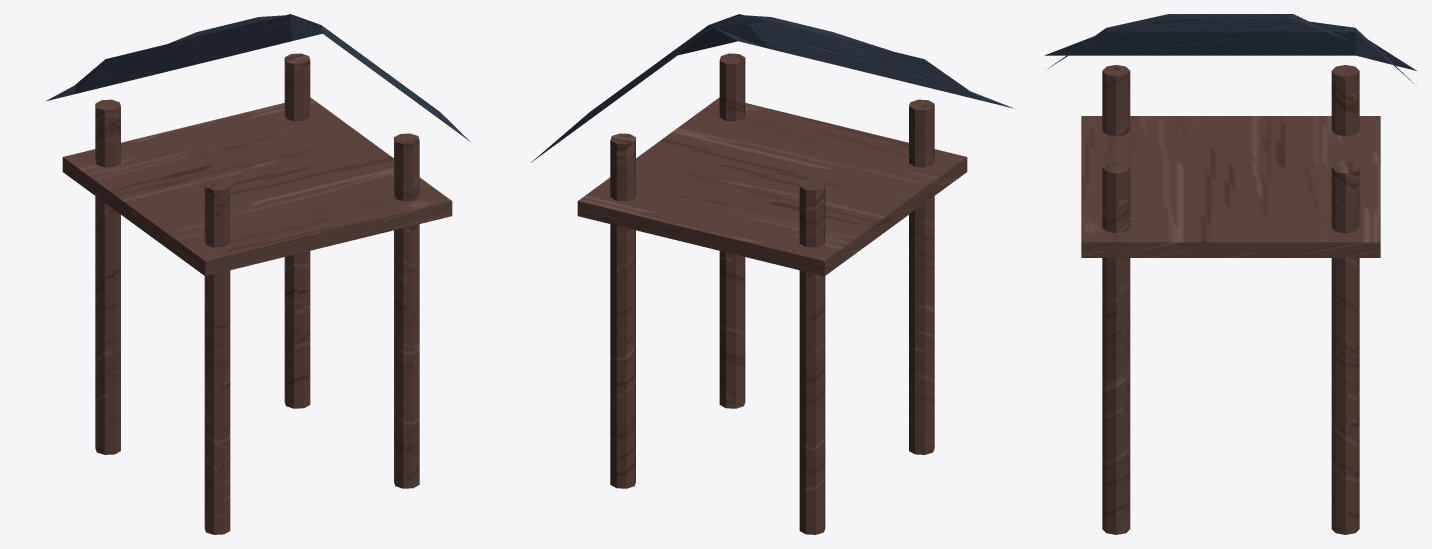
The model's file is shogun_guard_watchpost_lod1.glb.
3 renders of one model, left to right at view 1: azimuth 30°, elevation 25°; view 2: azimuth 150°, elevation 25°; view 3: azimuth 270°, elevation 25°, orthographic. The views are drawn at different scales.
Parts seen in each view (by area): view 1: shogun_guard_watchpost_004, shogun_guard_watchpost_001, shogun_guard_watchpost_003, shogun_guard_watchpost_000, shogun_guard_watchpost_005, shogun_guard_watchpost_002; view 2: shogun_guard_watchpost_004, shogun_guard_watchpost_005, shogun_guard_watchpost_000, shogun_guard_watchpost_002, shogun_guard_watchpost_001, shogun_guard_watchpost_003; view 3: shogun_guard_watchpost_004, shogun_guard_watchpost_005, shogun_guard_watchpost_002, shogun_guard_watchpost_003, shogun_guard_watchpost_000, shogun_guard_watchpost_001.
Boxes of the visible parts, box(x1,y1,x2,y2) form: shogun_guard_watchpost_004: box(62, 97, 452, 276); shogun_guard_watchpost_001: box(204, 179, 230, 534); shogun_guard_watchpost_003: box(394, 133, 419, 488); shogun_guard_watchpost_000: box(95, 99, 120, 454); shogun_guard_watchpost_005: box(46, 14, 470, 141); shogun_guard_watchpost_002: box(284, 53, 310, 408); shogun_guard_watchpost_004: box(577, 97, 967, 276); shogun_guard_watchpost_005: box(531, 14, 1013, 162); shogun_guard_watchpost_000: box(799, 179, 825, 534); shogun_guard_watchpost_002: box(610, 133, 635, 488); shogun_guard_watchpost_001: box(909, 99, 934, 454); shogun_guard_watchpost_003: box(719, 53, 745, 408); shogun_guard_watchpost_004: box(1081, 116, 1380, 257); shogun_guard_watchpost_005: box(1044, 14, 1416, 85); shogun_guard_watchpost_002: box(1331, 161, 1359, 534); shogun_guard_watchpost_003: box(1102, 161, 1130, 534); shogun_guard_watchpost_000: box(1331, 65, 1359, 136); shogun_guard_watchpost_001: box(1102, 65, 1130, 136).
Bounding box in the file's own units: 7.5 × 10.15 × 7.5.
Materials: 2 (2 with a texture image).
